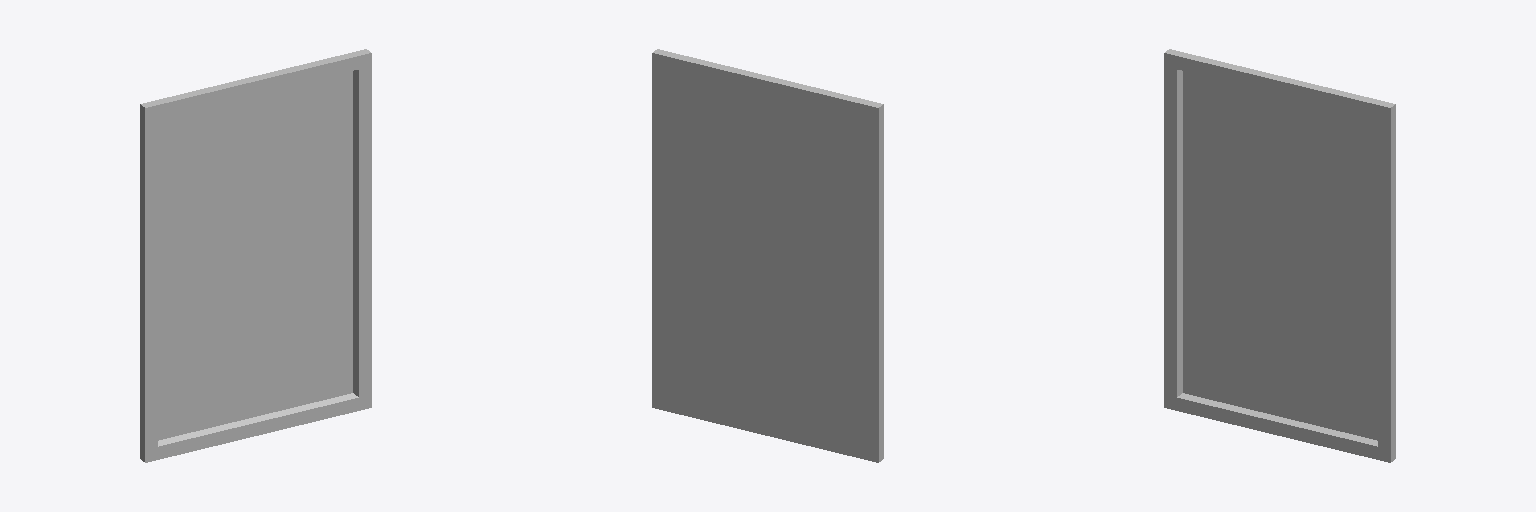
The model's file is window_002.obj.
The picture shows the model from 3 angles: view 1: azimuth 30°, elevation 25°; view 2: azimuth 150°, elevation 25°; view 3: azimuth 330°, elevation 25°; orthographic projection.
Visible parts, largest first — view 1: window_002_Plane.003; view 2: window_002_Plane.003; view 3: window_002_Plane.003.
Boxes of the visible parts, <box> form: window_002_Plane.003: <box>140,49,371,462</box>; window_002_Plane.003: <box>652,49,883,462</box>; window_002_Plane.003: <box>1164,49,1395,462</box>.
Bounding box in the file's own units: 1 × 1.5 × 0.0414.